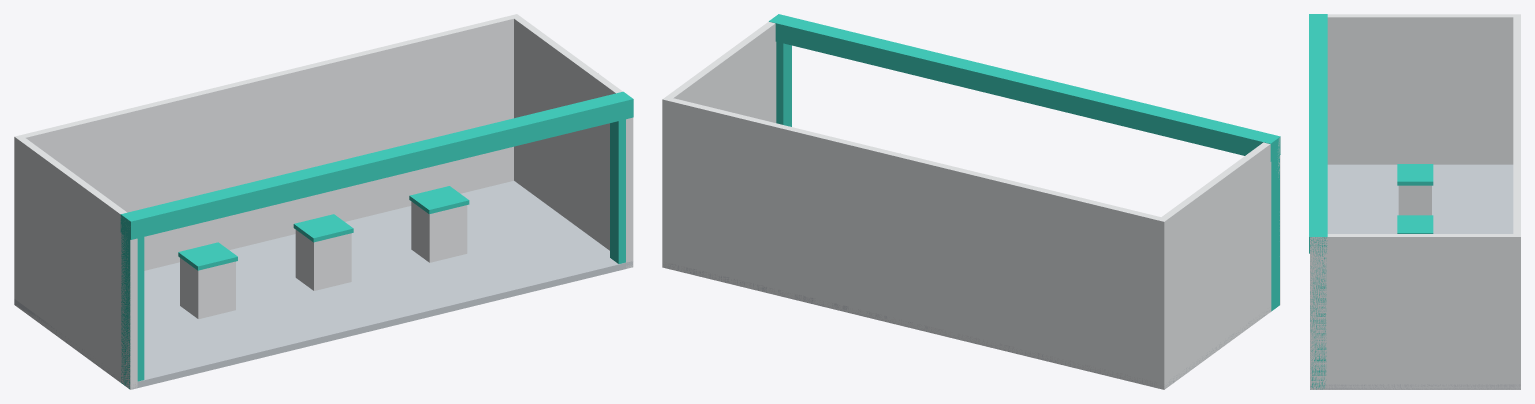
3 views of the same model, side by side, from view 1: azimuth 30°, elevation 25°; view 2: azimuth 150°, elevation 25°; view 3: azimuth 270°, elevation 25° (orthographic). The views are drawn at different scales.
Visible parts, largest first — view 1: Exhibition Booth Concept; view 2: Exhibition Booth Concept; view 3: Exhibition Booth Concept.
Part boxes in pixels (<box>): Exhibition Booth Concept: <box>14,14,633,389</box>; Exhibition Booth Concept: <box>662,14,1280,389</box>; Exhibition Booth Concept: <box>1309,14,1520,389</box>.
Bounding box in the file's own units: 10 × 3.2 × 4.02.
